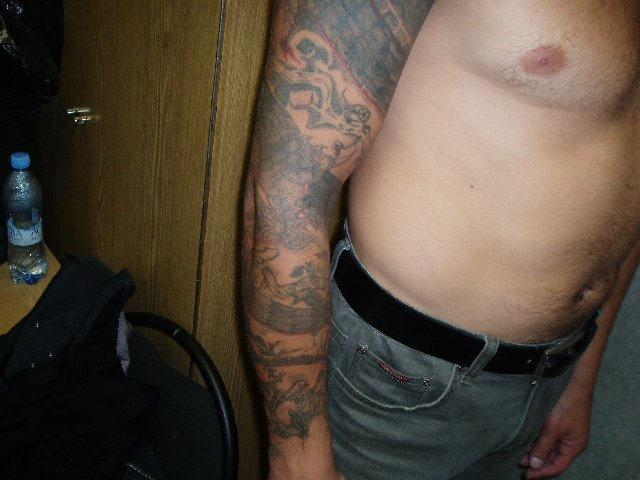tatu6_drakon: (252, 1, 387, 433)
